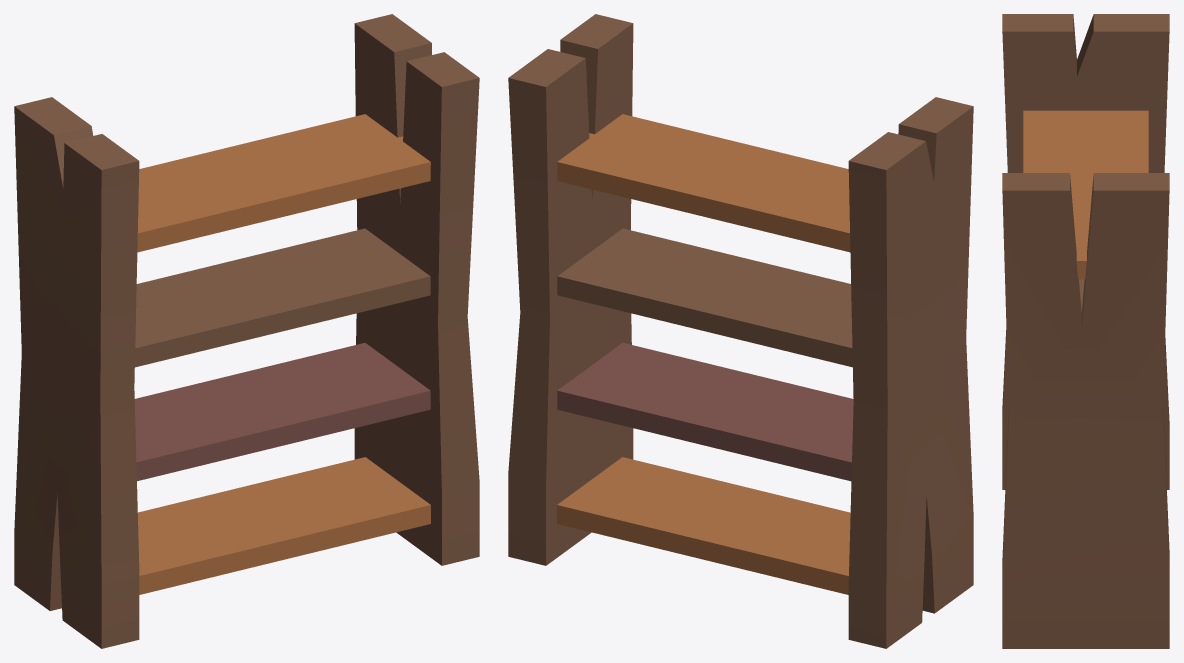
The model's file is BookShelves_Empty.fbx.
3 views of the same model, side by side, from view 1: azimuth 30°, elevation 25°; view 2: azimuth 150°, elevation 25°; view 3: azimuth 270°, elevation 25° (orthographic). The views are drawn at different scales.
Visible parts, largest first — view 1: BookShelves; view 2: BookShelves; view 3: BookShelves.
Boxes of the visible parts, bbox=[...] form: BookShelves: bbox=[14, 14, 479, 648]; BookShelves: bbox=[508, 14, 973, 648]; BookShelves: bbox=[1002, 14, 1169, 648].
Size of the model in its own units: 2 by 0.8 by 2.42.
